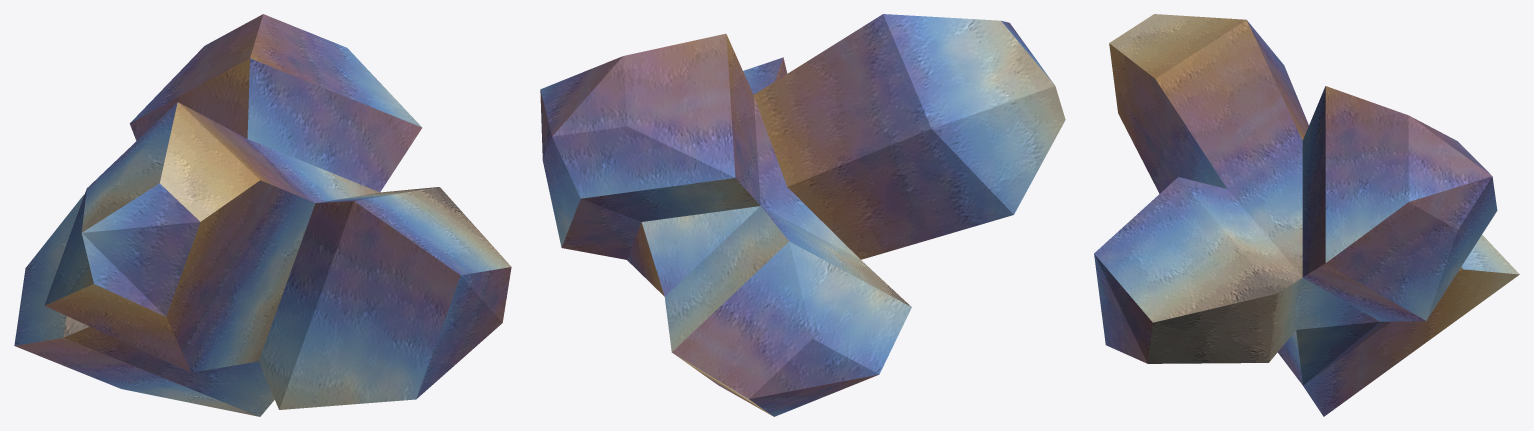
Rendered from TitaniumOre.fbx.
3 views of the same model, side by side, from view 1: azimuth 30°, elevation 25°; view 2: azimuth 150°, elevation 25°; view 3: azimuth 270°, elevation 25° (orthographic). The views are drawn at different scales.
Parts seen in each view (by area): view 1: Icosphere; view 2: Icosphere; view 3: Icosphere.
Part boxes in pixels (bbox=[...]): Icosphere: bbox=[14, 14, 511, 416]; Icosphere: bbox=[540, 14, 1065, 416]; Icosphere: bbox=[1094, 14, 1519, 416].
Bounding box in the file's own units: 451 × 383 × 433.
